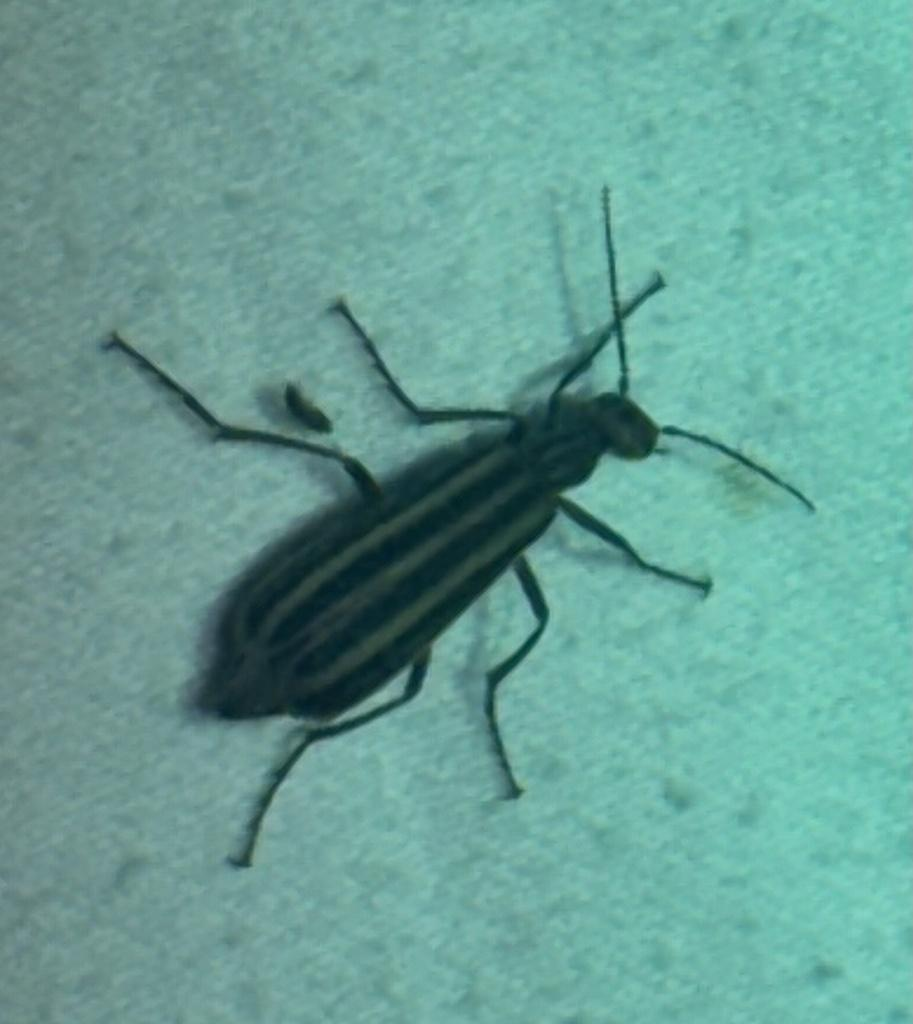blister_beetle: (16, 103, 913, 949)
